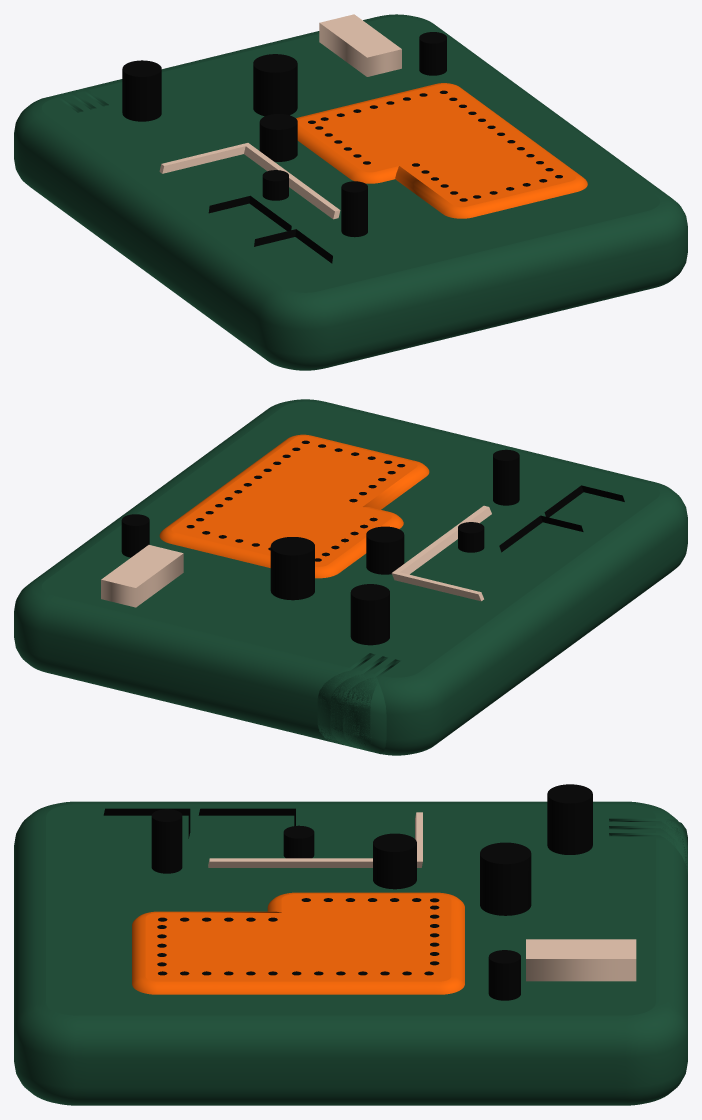
The picture shows the model from 3 angles, top to bottom: view 1: azimuth 30°, elevation 25°; view 2: azimuth 150°, elevation 25°; view 3: azimuth 270°, elevation 25°; orthographic projection. The views are drawn at different scales.
Visible parts, largest first — view 1: rect55; view 2: rect55; view 3: rect55.
Part boxes in pixels (x1,y1,x2,y2): rect55: [14, 14, 687, 370]; rect55: [14, 399, 687, 755]; rect55: [14, 784, 687, 1105].
Bounding box in the file's own units: 21.61 × 5.87 × 25.82.
